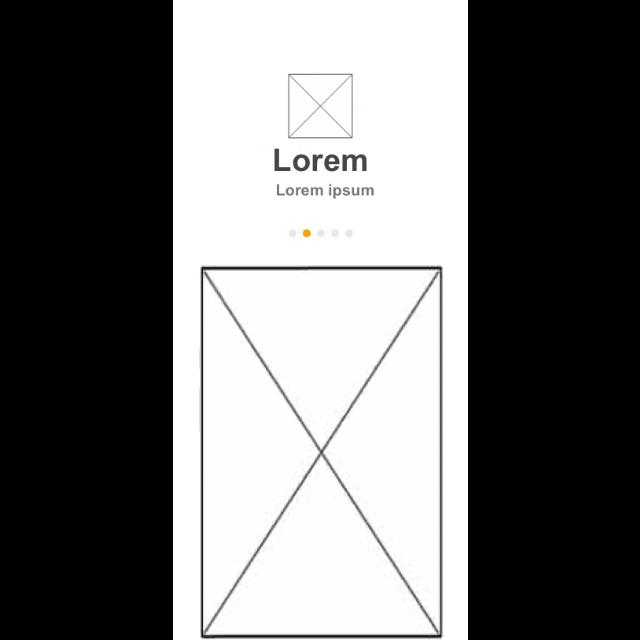image: (200, 266, 442, 640), (287, 73, 353, 139)
pageindicator: (288, 230, 354, 238)
text: (274, 148, 366, 172), (276, 184, 374, 200)
